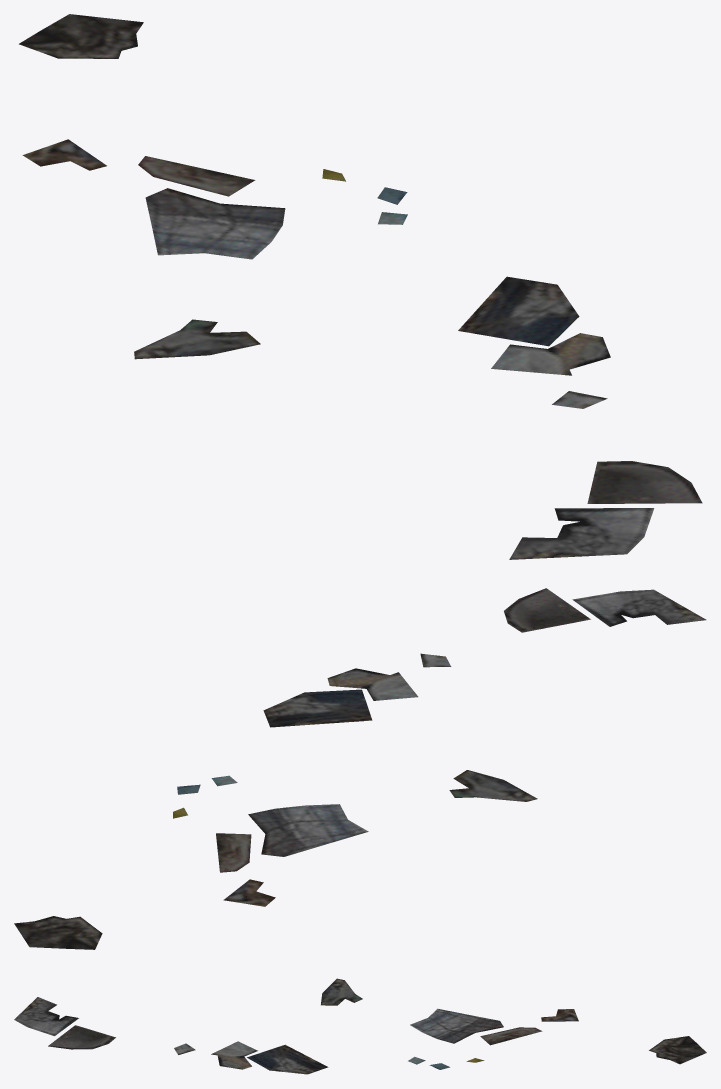
Rendered from bz_trash_05.fbx.
3 views of the same model, one above another, from view 1: azimuth 30°, elevation 25°; view 2: azimuth 150°, elevation 25°; view 3: azimuth 270°, elevation 25° (orthographic). The views are drawn at different scales.
Visible parts, largest first — view 1: bz_trash_05; view 2: bz_trash_05; view 3: bz_trash_05.
Part boxes in pixels (x1,y1,x2,y2): bz_trash_05: (19, 14, 702, 559); bz_trash_05: (14, 588, 706, 949); bz_trash_05: (14, 978, 706, 1074).
Bounding box in the file's own units: 3.47 × 1.72e-06 × 10.58.
